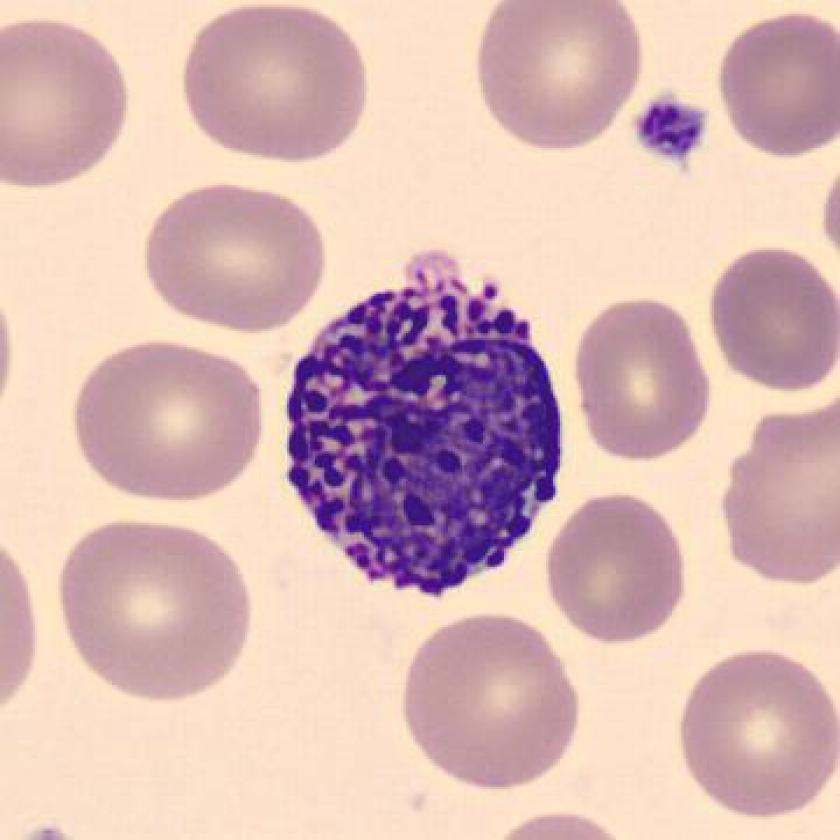basophil: (279, 254, 566, 608)
